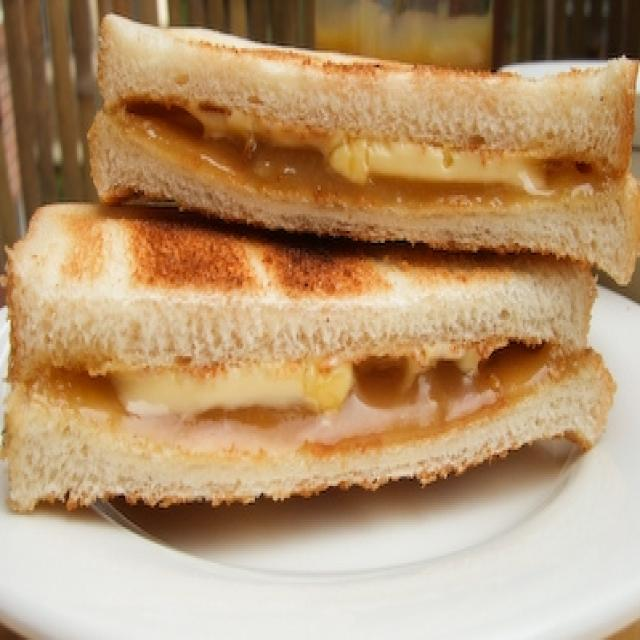面包点心: (21, 7, 627, 549)
